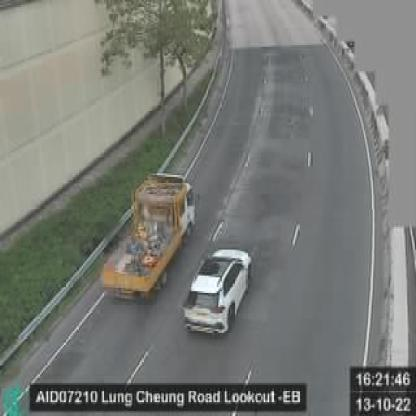Car: (182, 245, 252, 339)
Truck: (99, 174, 198, 302)
